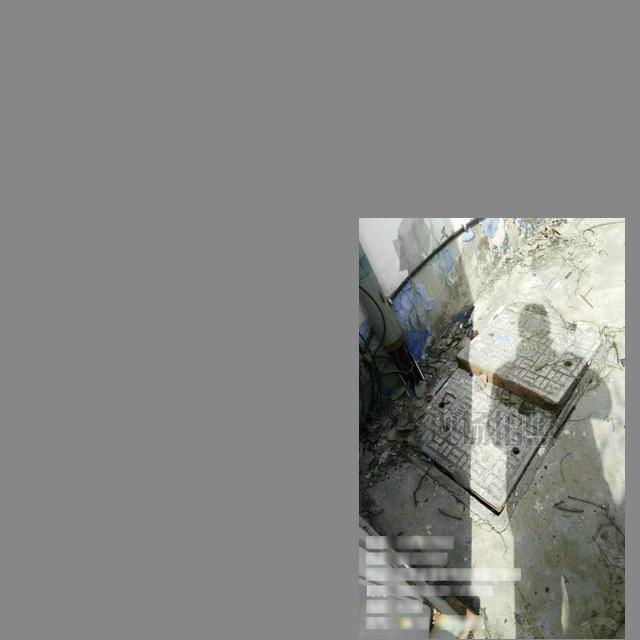uncovered: (400, 303, 600, 530)
